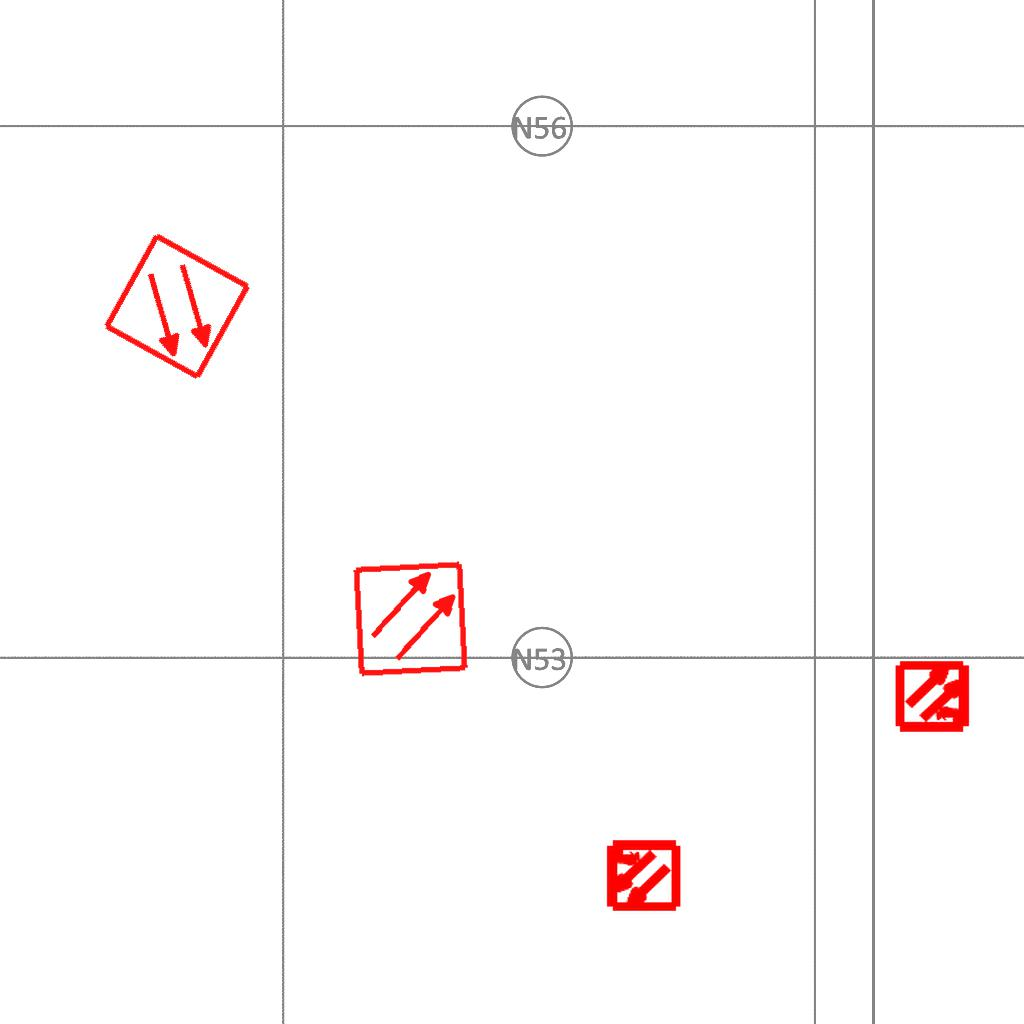OT_Multisensormelder_(Kombination_RMO_WMD): (585, 819, 698, 932), (878, 640, 991, 753)
RMO_Rauchmelder_optischer: (100, 229, 255, 384), (351, 559, 470, 678)
